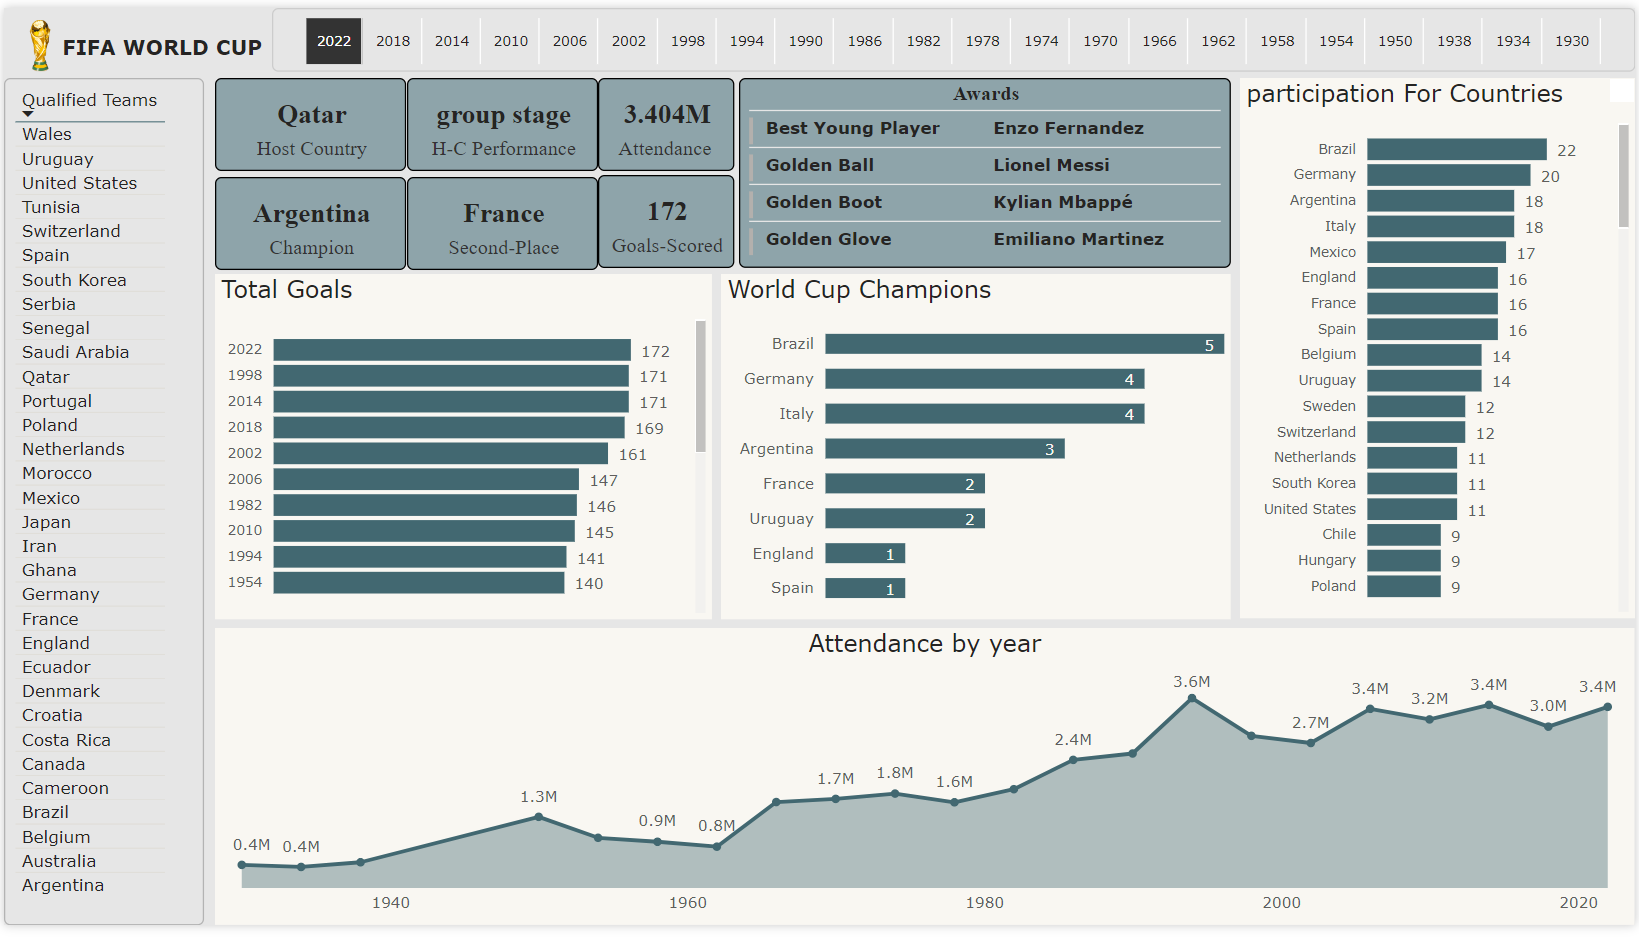

The dashboard page shown, as its layout file describes it:
{"tool":"powerbi","page":{"name":"Page 1","canvas":[1280,720],"ordinal":0},"visuals":[{"type":"card","fields":{"Values":["tournaments.host_country"]},"box":[165.9,55.3,150.1,73.1],"z":0},{"type":"card","fields":{"Values":["tournaments.winner"]},"box":[165.9,132.3,150.1,73],"z":1000},{"type":"card","fields":{"Values":["tournaments.performance"]},"box":[316,55,150.1,73],"z":2000},{"type":"multiRowCard","title":"Awards","fields":{"Values":["award_winners.award_name","award_winners.player_name"]},"box":[576.8,55.3,386.2,149.1],"z":3000},{"type":"card","fields":{"Values":["tournaments.Runners-Up"]},"box":[316,132.3,150.1,73.1],"z":4000},{"type":"card","fields":{"Values":["tournaments. Attendance "]},"box":[466.2,55,106.7,73],"z":9000},{"type":"card","fields":{"Values":["tournaments.GoalsScored"]},"box":[466.2,131.4,106.7,73.1],"z":10000},{"type":"textbox","box":[40.5,0,175.8,55.3],"z":11000},{"type":"image","box":[0,0,57.3,58.3],"z":12000},{"type":"slicer","fields":{"Values":["tournaments.year"]},"box":[210,0,1070,50],"z":13000},{"type":"barChart","title":"participation For Countries","fields":{"Category":["qualified_teams.team_name"],"Y":["qualified_teams.team_name"]},"box":[969.9,55.3,310.1,423.7],"z":14000},{"type":"areaChart","title":"Attendance  by year","fields":{"Category":["tournaments.year"],"Y":["tournaments. Attendance "]},"box":[165.9,486.9,1114.1,233.1],"z":15000},{"type":"barChart","title":"World Cup Champions","fields":{"Category":["tournaments.winner"],"Y":["tournaments.winner"]},"box":[563,208.4,400,270.6],"z":16000},{"type":"tableEx","fields":{"Values":["qualified_teams.team_name"]},"box":[0,55.3,157,664.7],"z":17000},{"type":"barChart","title":"Total Goals","fields":{"Category":["tournaments.year"],"Y":["tournaments.GoalsScored"]},"box":[165.9,208.4,390.1,270.6],"z":17001}]}

Visuals, with their boxes in screenshot pixels (x1, y1, x2, y2), scaled from the page's 1280x720 canvas onto the 1639x939 screenshot:
card - tournaments.host_country: locate(212, 72, 405, 167)
card - tournaments.winner: locate(212, 173, 405, 268)
card - tournaments.performance: locate(405, 72, 597, 167)
"Awards" multiRowCard: locate(739, 72, 1233, 267)
card - tournaments.Runners-Up: locate(405, 173, 597, 268)
card - tournaments. Attendance : locate(597, 72, 734, 167)
card - tournaments.GoalsScored: locate(597, 171, 734, 267)
textbox: locate(52, 0, 277, 72)
image: locate(0, 0, 73, 76)
slicer - tournaments.year: locate(269, 0, 1638, 65)
"participation For Countries" barChart: locate(1242, 72, 1638, 625)
"Attendance  by year" areaChart: locate(212, 635, 1638, 938)
"World Cup Champions" barChart: locate(721, 272, 1233, 625)
tableEx - qualified_teams.team_name: locate(0, 72, 201, 938)
"Total Goals" barChart: locate(212, 272, 712, 625)
